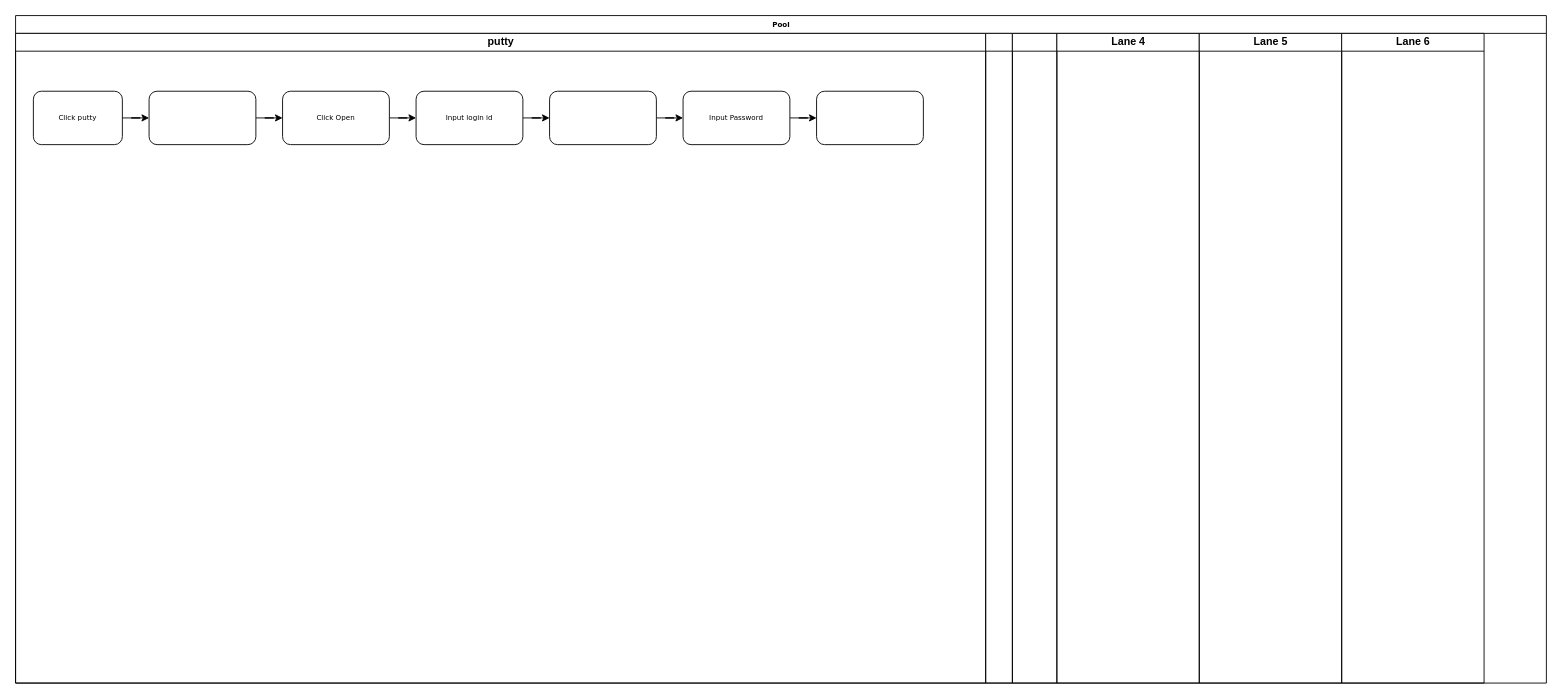
This 1562x699 diagram has some shape labels left out. The box of each missing label's shape, as (x1, y1, x2, y2) in pixels:
Input IP: (148, 90, 256, 145)
keyboard Enter: (816, 90, 923, 145)
keybord Enter: (549, 90, 656, 145)
Lane 2: (985, 32, 1012, 683)
Lane 3: (1011, 32, 1057, 683)
